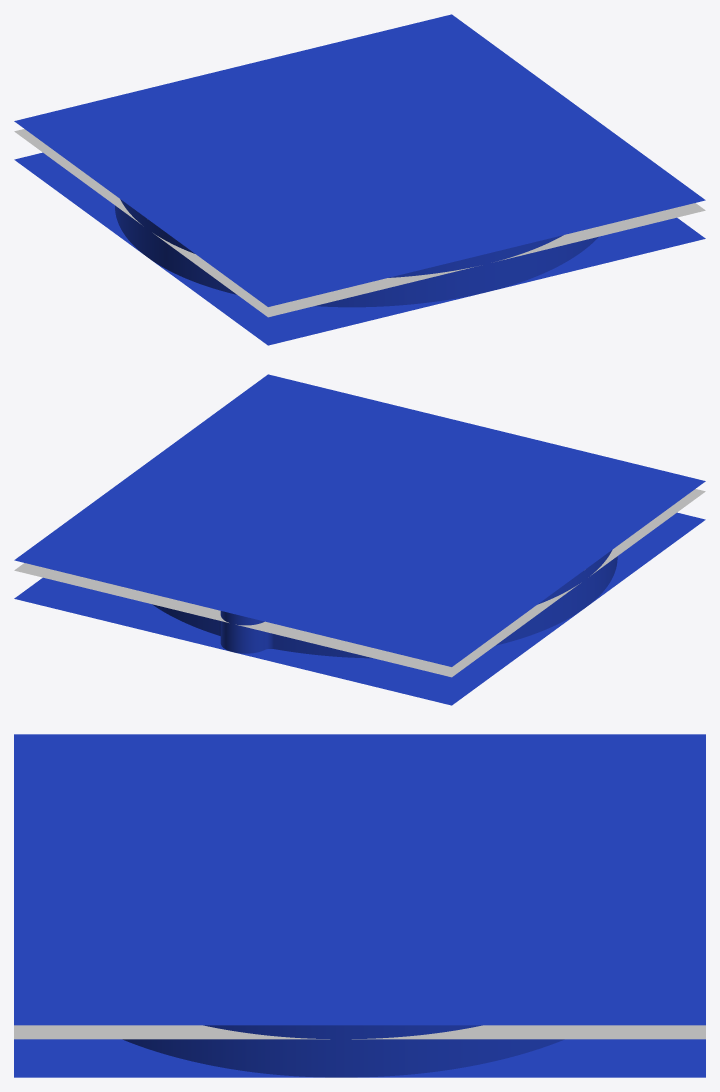
The picture shows the model from 3 angles, top to bottom: view 1: azimuth 30°, elevation 25°; view 2: azimuth 150°, elevation 25°; view 3: azimuth 270°, elevation 25°; orthographic projection. The views are drawn at different scales.
Parts seen in each view (by area): view 1: key1_up, key1_down, key1_curve, key1_mid; view 2: key1_up, key1_down, key1_mid, key1_curve; view 3: key1_up, key1_down, key1_curve, key1_mid.
Part boxes in pixels (left/top/right/bottom): key1_up: left=14, top=14, right=705, bottom=306; key1_down: left=14, top=152, right=705, bottom=345; key1_curve: left=115, top=199, right=598, bottom=307; key1_mid: left=14, top=129, right=705, bottom=317; key1_up: left=14, top=374, right=705, bottom=666; key1_down: left=14, top=512, right=705, bottom=705; key1_mid: left=14, top=489, right=705, bottom=677; key1_curve: left=152, top=550, right=617, bottom=658; key1_up: left=14, top=734, right=705, bottom=1025; key1_down: left=14, top=1039, right=705, bottom=1077; key1_curve: left=122, top=1025, right=564, bottom=1077; key1_mid: left=14, top=1025, right=705, bottom=1039.
Bounding box in the file's own units: 4.49 × 0.3762 × 4.51.
